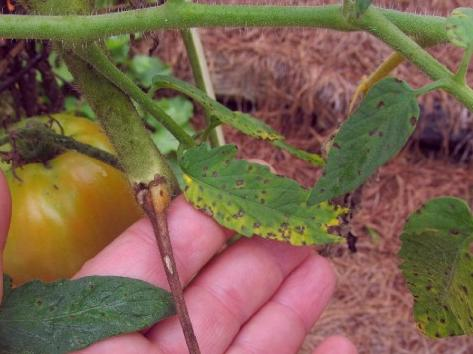Tomato Septoria leaf spot: (172, 143, 351, 252), (300, 80, 416, 210), (0, 272, 174, 354), (398, 194, 473, 341)
